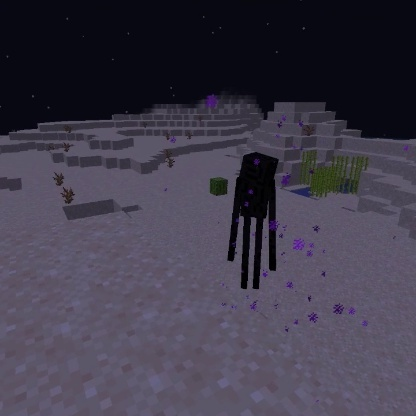enderman: (224, 149, 283, 292)
